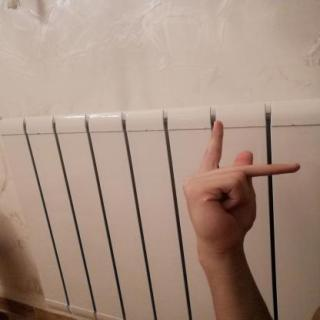DHAA: (175, 115, 310, 255)
